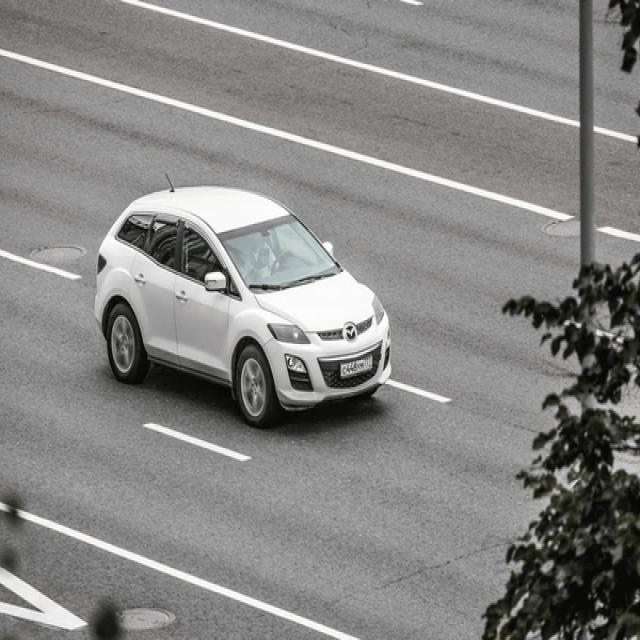mazda: (344, 323, 358, 342)
